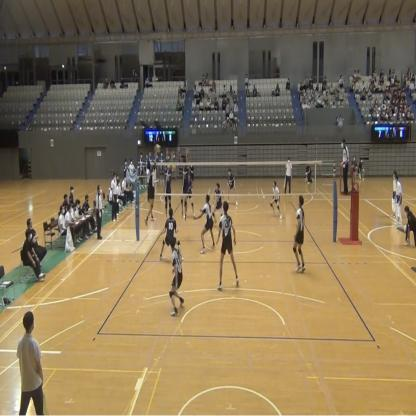spike: (144, 142, 161, 233)
